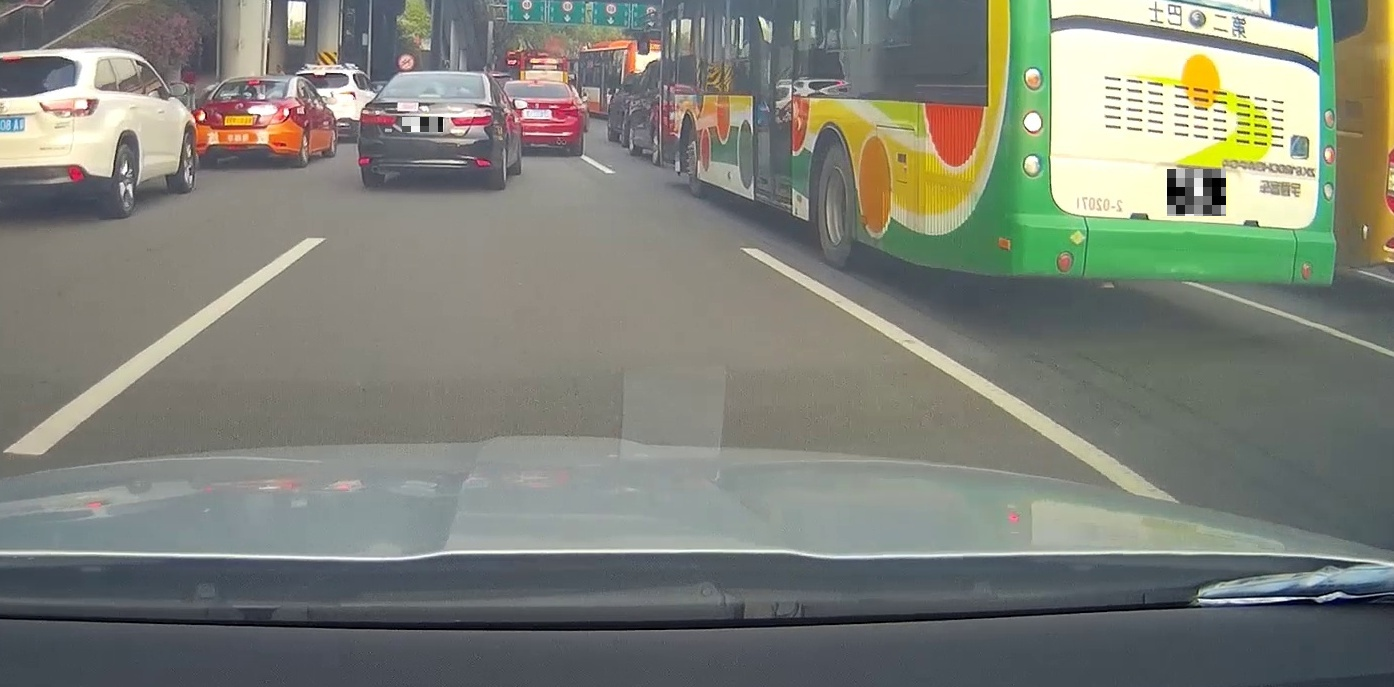L_light: (359, 108, 396, 125), (195, 108, 223, 126)
R_light: (451, 108, 494, 126), (256, 106, 289, 126)
T_light: (419, 93, 440, 99), (248, 80, 260, 84)
day-brake: (194, 75, 295, 167)
day-no: (359, 71, 498, 188)
plate_1: (402, 117, 443, 132)
plate_2: (1167, 169, 1226, 216)
